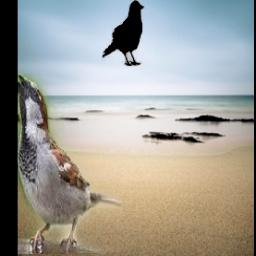Crow: (102, 0, 146, 66)
Sparrow: (18, 73, 123, 254)
